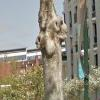Statue: (31, 2, 67, 100)
